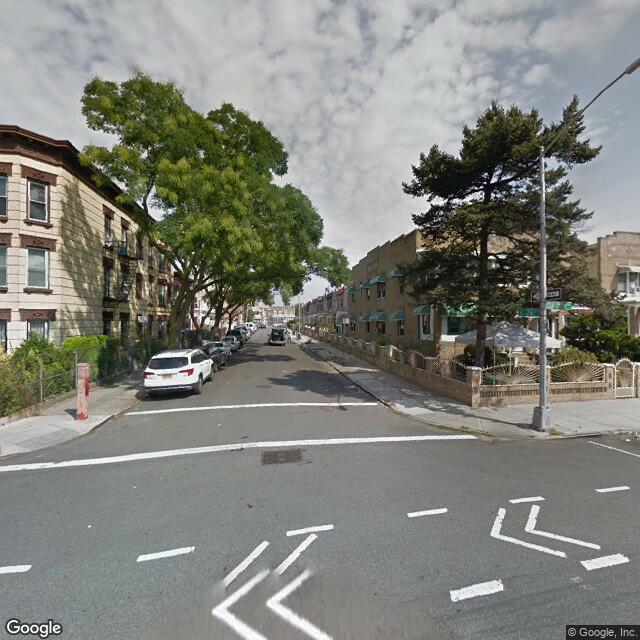litter: (619, 433, 636, 447)
